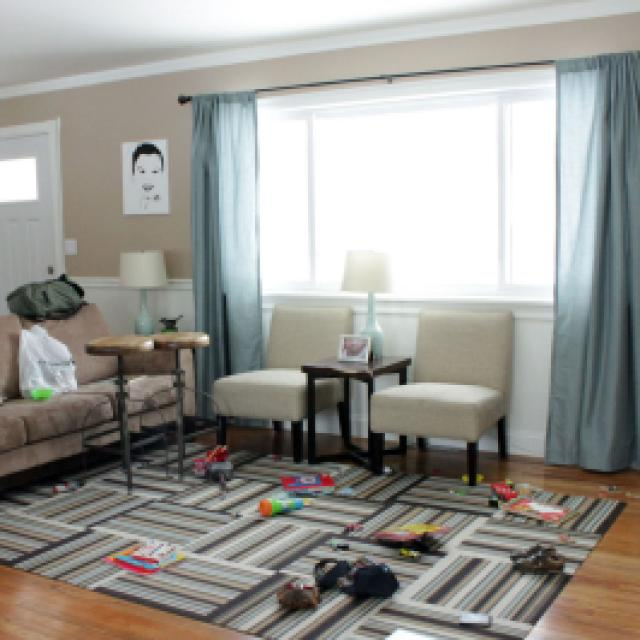mess: (147, 433, 640, 640)
